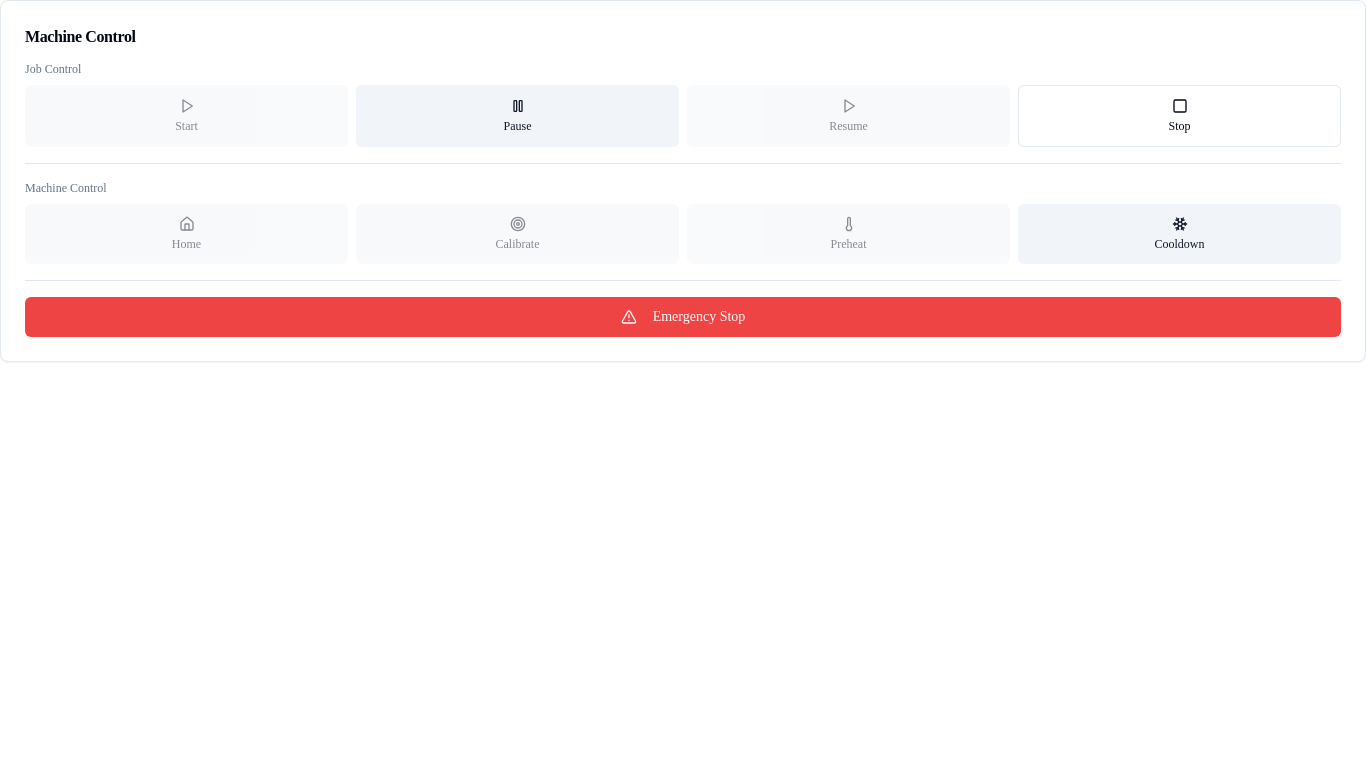
MachineControlPanel › cancel button in confirmation dialog closes it
The width and height of the screenshot is (1366, 768).
Click the button "Emergency Stop". click: (683, 317)
box: x1=25 y1=297 x2=1341 y2=337
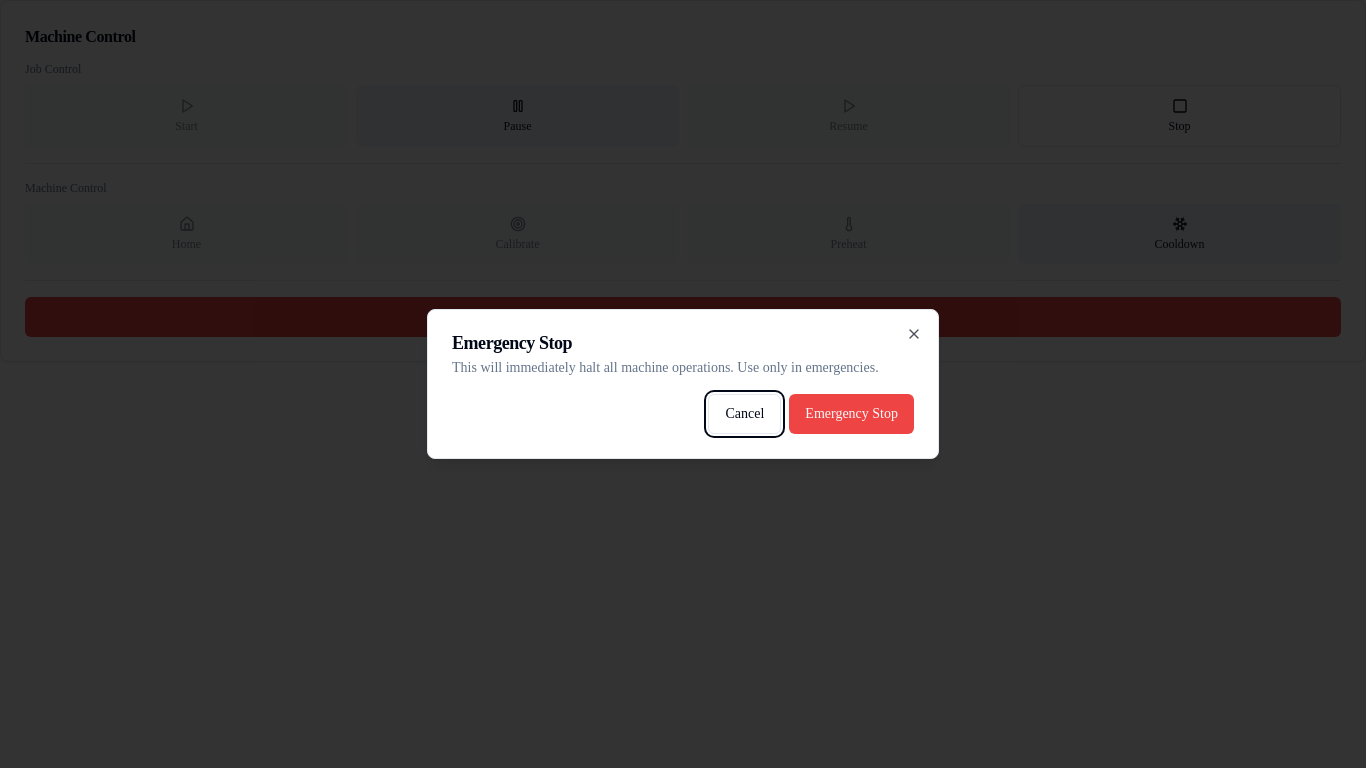
Click the button "Cancel". click: (745, 414)
box: x1=708 y1=394 x2=781 y2=434
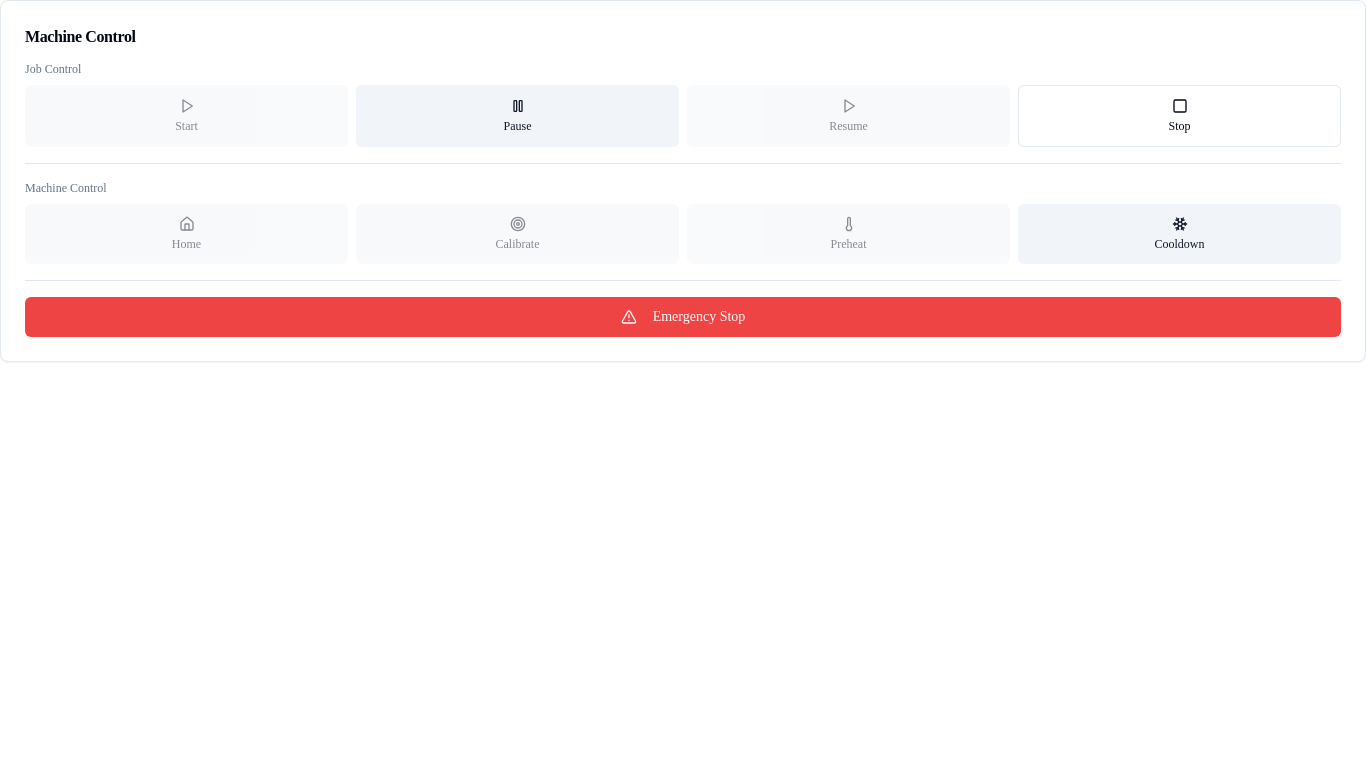
Expected: the text "This will immediately halt all machine operations. Use only in emergencies." is gone
